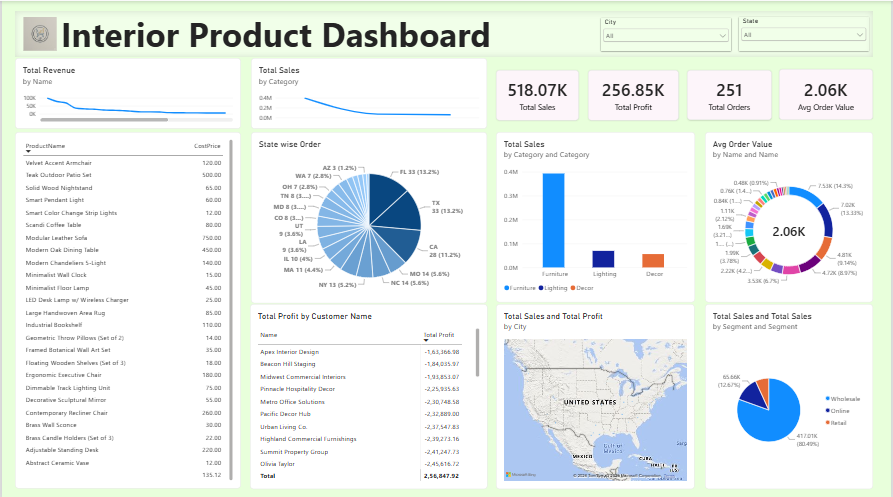

This screenshot's page, from the dashboard's own definition file:
{"tool":"powerbi","page":{"name":"Page 1","canvas":[1920,1080],"ordinal":0},"visuals":[{"type":"textbox","box":[28.1,21.6,1853.3,99.4],"z":0},{"type":"card","fields":{"Values":["Measure.Total Orders"]},"box":[1480,150,182.5,107.5],"z":1000},{"type":"card","fields":{"Values":["Measure.Avg Order Value"]},"box":[1677.5,147.5,202.5,110],"z":2000},{"type":"columnChart","fields":{"Category":["Products.Category"],"Y":["Measure.Total Sales"],"Series":["Products.Category"]},"box":[1067.5,282.5,430,367.5],"z":3000},{"type":"tableEx","fields":{"Values":["Products.ProductName","Products.CostPrice"]},"box":[27.5,282.5,487.5,770],"z":4000},{"type":"pieChart","fields":{"Category":["Customers.Segment"],"Series":["Customers.Segment"],"Y":["Measure.Total Sales"]},"box":[1517.5,655,362.5,400],"z":5000},{"type":"filledMap","fields":{"Category":["Customers.City"]},"box":[1067.3,654.3,429.1,399.6],"z":6000},{"type":"slicer","fields":{"Values":["Customers.City"]},"box":[1294.3,35.7,281.4,71.4],"z":7000},{"type":"slicer","fields":{"Values":["Customers.State"]},"box":[1591.4,34.3,280,72.9],"z":8000},{"type":"donutChart","fields":{"Category":["Customers.Name"],"Series":["Customers.Name"],"Y":["Measure.Avg Order Value"]},"box":[1517.5,282.5,362.5,367.5],"z":9000},{"type":"pivotTable","title":"Total Profit by Customer Name","fields":{"Rows":["Customers.Name"],"Values":["Measure.Total Profit"]},"box":[535,655,512.5,400],"z":10000},{"type":"card","title":"Total Sales","fields":{"Values":["Measure.Total Sales"]},"box":[1067.5,150,178.6,108.6],"z":11000},{"type":"card","title":"Total Sales","fields":{"Values":["Measure.Total Profit"]},"box":[1265,150,195.7,108.6],"z":12000},{"type":"pieChart","title":"State wise Order","fields":{"Category":["Customers.State"],"Y":["CountNonNull(Orders.OrderID)"]},"box":[537.5,282.5,510,370],"z":13000},{"type":"image","box":[42.5,35,77.5,72.5],"z":14000},{"type":"lineChart","fields":{"Y":["Measure.Total Revenue"],"Category":["Customers.Name"]},"box":[27.5,122.5,487.5,152.5],"z":14001},{"type":"lineChart","fields":{"Category":["Products.Category"],"Y":["Measure.Total Sales"]},"box":[537.5,122.5,510,152.5],"z":14002}]}

Visuals, with their boxes in screenshot pixels (x1, y1, x2, y2), scaled from the page's 1920x1080 canvas onto the 893x497 screenshot:
textbox: (x1=13, y1=10, x2=875, y2=56)
card - Measure.Total Orders: (x1=688, y1=69, x2=773, y2=118)
card - Measure.Avg Order Value: (x1=780, y1=68, x2=874, y2=118)
columnChart - Products.Category x Measure.Total Sales: (x1=496, y1=130, x2=696, y2=299)
tableEx - Products.ProductName x Products.CostPrice: (x1=13, y1=130, x2=240, y2=484)
pieChart - Customers.Segment x Customers.Segment: (x1=706, y1=301, x2=874, y2=485)
filledMap - Customers.City: (x1=496, y1=301, x2=696, y2=485)
slicer - Customers.City: (x1=602, y1=16, x2=733, y2=49)
slicer - Customers.State: (x1=740, y1=16, x2=870, y2=49)
donutChart - Customers.Name x Customers.Name: (x1=706, y1=130, x2=874, y2=299)
"Total Profit by Customer Name" pivotTable: (x1=249, y1=301, x2=487, y2=485)
"Total Sales" card: (x1=496, y1=69, x2=580, y2=119)
"Total Sales" card: (x1=588, y1=69, x2=679, y2=119)
"State wise Order" pieChart: (x1=250, y1=130, x2=487, y2=300)
image: (x1=20, y1=16, x2=56, y2=49)
lineChart - Measure.Total Revenue x Customers.Name: (x1=13, y1=56, x2=240, y2=127)
lineChart - Products.Category x Measure.Total Sales: (x1=250, y1=56, x2=487, y2=127)
